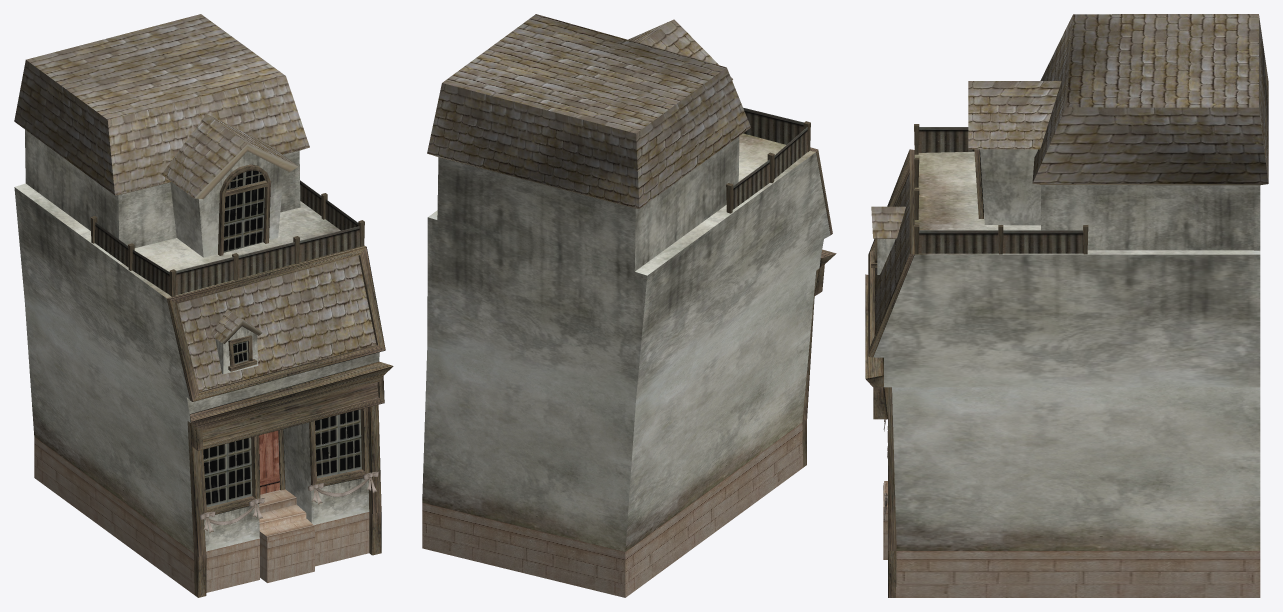
Rendered from english_j.fbx.
3 renders of one model, left to right at view 1: azimuth 30°, elevation 25°; view 2: azimuth 150°, elevation 25°; view 3: azimuth 270°, elevation 25°, orthographic. The views are drawn at different scales.
Visible parts, largest first — view 1: building_shell, balcony_shell, doors_arched, building_shell5, sstep, dormer1, railing_09.001, railing_01.001, railing_08.001, door_left, railing_013.001, window_e_03 (+2 smaller); view 2: building_shell, balcony_shell, railing_09.001, railing_012.001, railing_013.001; view 3: building_shell, balcony_shell, railing_011.001, railing_010.001, dormer1, railing_013.001.
Boxes of the visible parts, x1=… form: building_shell: x1=14, y1=14, x2=393, y2=597; balcony_shell: x1=161, y1=114, x2=298, y2=257; doors_arched: x1=218, y1=164, x2=270, y2=255; building_shell5: x1=259, y1=530, x2=314, y2=582; sstep: x1=259, y1=489, x2=314, y2=541; dormer1: x1=211, y1=309, x2=262, y2=374; railing_09.001: x1=175, y1=257, x2=233, y2=295; railing_01.001: x1=299, y1=226, x2=359, y2=262; railing_08.001: x1=238, y1=242, x2=294, y2=278; door_left: x1=259, y1=430, x2=279, y2=494; railing_013.001: x1=132, y1=249, x2=170, y2=294; window_e_03: x1=228, y1=335, x2=257, y2=371; building_shell: x1=422, y1=14, x2=836, y2=597; balcony_shell: x1=628, y1=19, x2=732, y2=80; railing_09.001: x1=743, y1=108, x2=803, y2=144; railing_012.001: x1=732, y1=159, x2=769, y2=209; railing_013.001: x1=774, y1=127, x2=807, y2=178; building_shell: x1=865, y1=14, x2=1268, y2=597; balcony_shell: x1=968, y1=81, x2=1061, y2=225; railing_011.001: x1=1003, y1=230, x2=1083, y2=253; railing_010.001: x1=918, y1=230, x2=998, y2=253; dormer1: x1=871, y1=206, x2=905, y2=274; railing_013.001: x1=918, y1=127, x2=974, y2=152.
Bounding box in the file's own units: 2567 × 5066 × 3849.
Materials: 3 (3 with a texture image).
